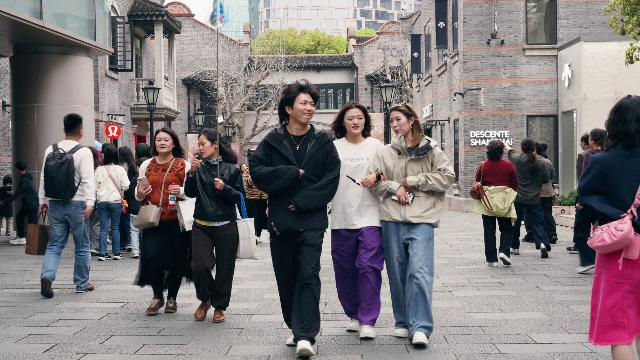person: (368, 100, 456, 347), (577, 93, 640, 360), (330, 101, 388, 340), (184, 128, 246, 323), (38, 114, 98, 298), (134, 126, 192, 315), (472, 139, 520, 268), (503, 137, 551, 258), (576, 128, 608, 274), (94, 142, 131, 261), (0, 161, 41, 244), (126, 143, 154, 258), (534, 141, 561, 244), (88, 146, 104, 254), (0, 175, 13, 235)
